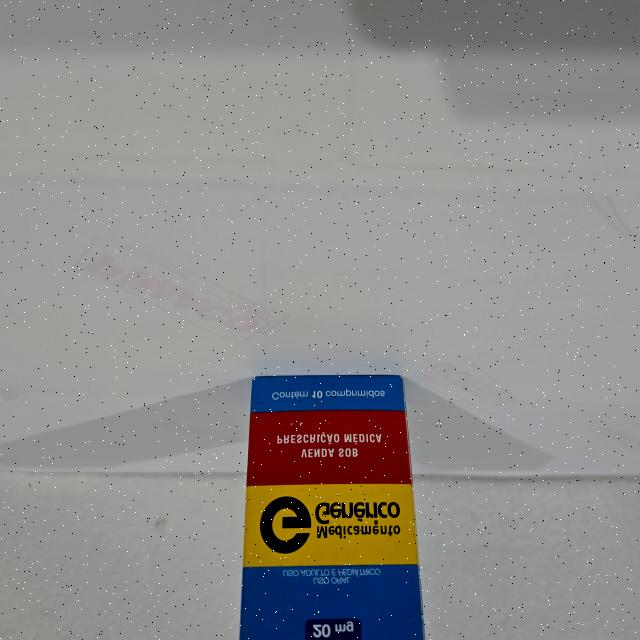prednisona: (233, 370, 430, 640)
